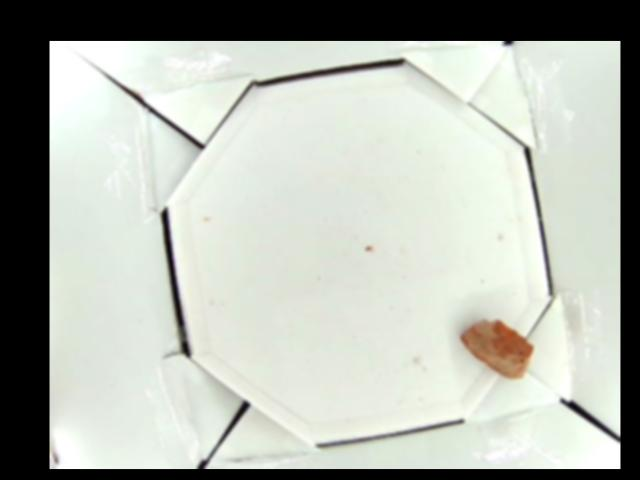Brisk: (459, 318, 533, 380)
